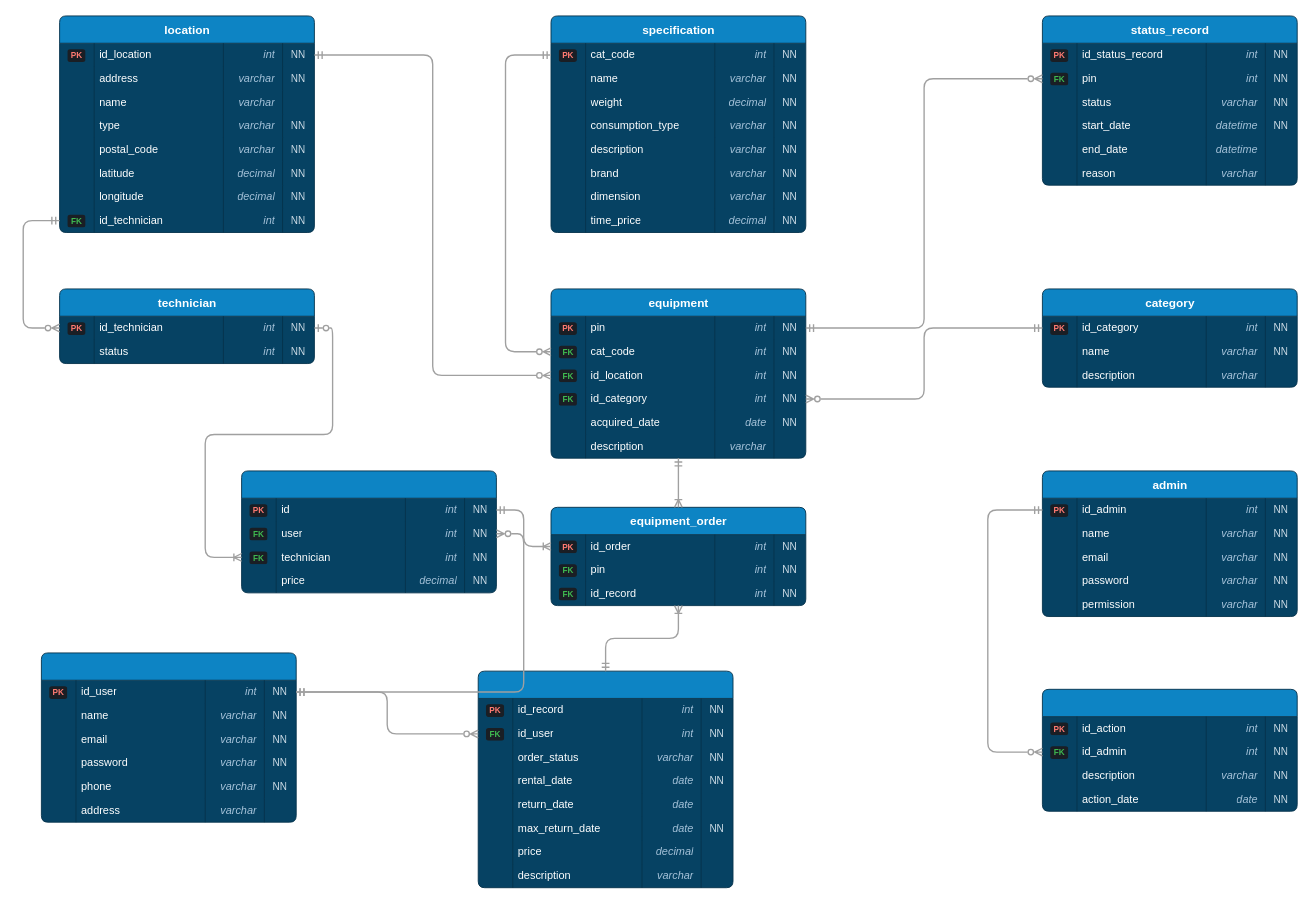
Some shapes in this 1314 by 904 pixel diagram are drawn without their labels. The shapes that lost their labels are listed below. From the top down, each one's box as (x1, y1, x2, y2) in pixels, then its label:
(241, 470, 496, 593): order
(40, 652, 296, 822): client
(1041, 688, 1297, 811): admin_action_history
(477, 670, 733, 888): rental_record
